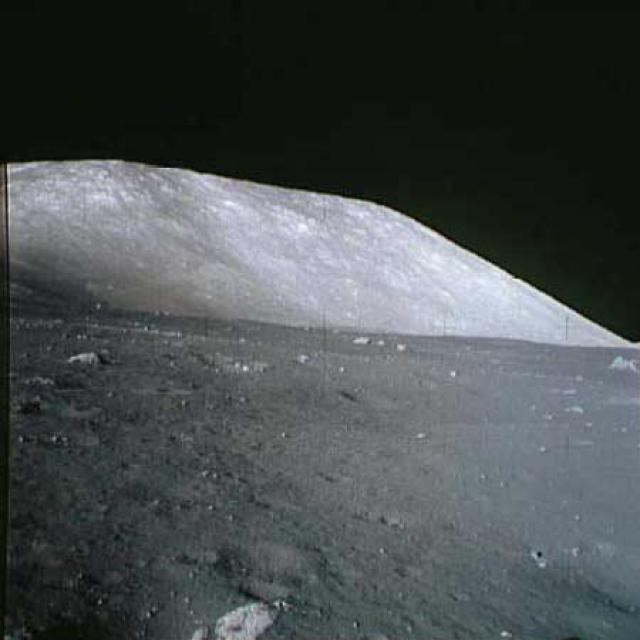crater: (47, 372, 193, 397), (328, 381, 413, 410), (194, 349, 271, 374)
rock: (219, 594, 292, 638), (64, 343, 106, 368), (602, 353, 638, 378), (351, 332, 372, 346), (396, 343, 411, 353)
